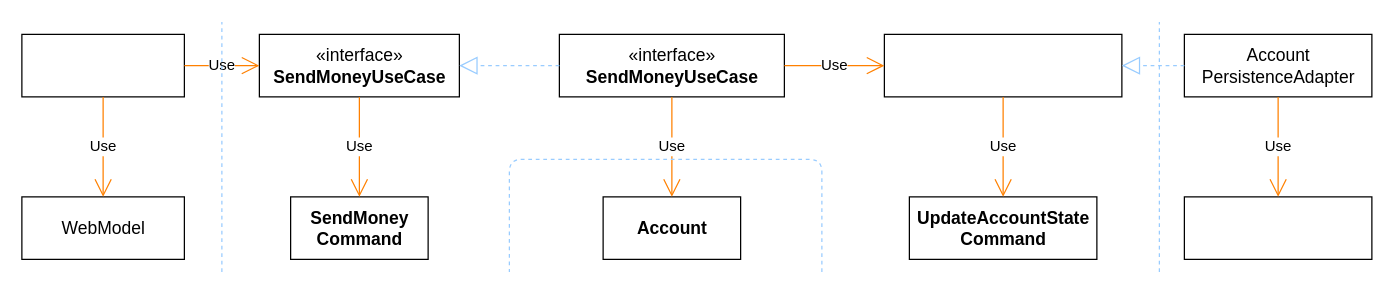
This 1394x295 diagram has some shape labels left out. Each missing label, with the centre of its shape:
AccountController: the point at 102,65
PersistenceModel: the point at 1277,227
«interface» UpdateAccountStatePort: the point at 1002,65
